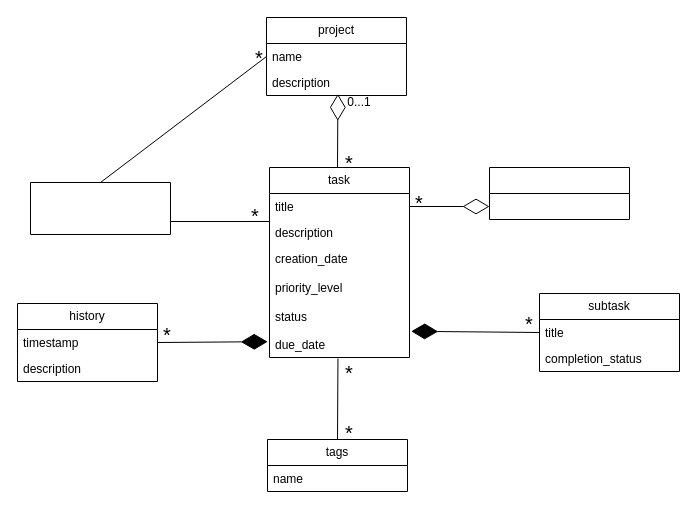
This 697x512 diagram has some shape labels left out. The centre of each missing label's shape, as x and y in pixels:
"console" goes at point 100,208.
"TaskDB" goes at point 559,193.
